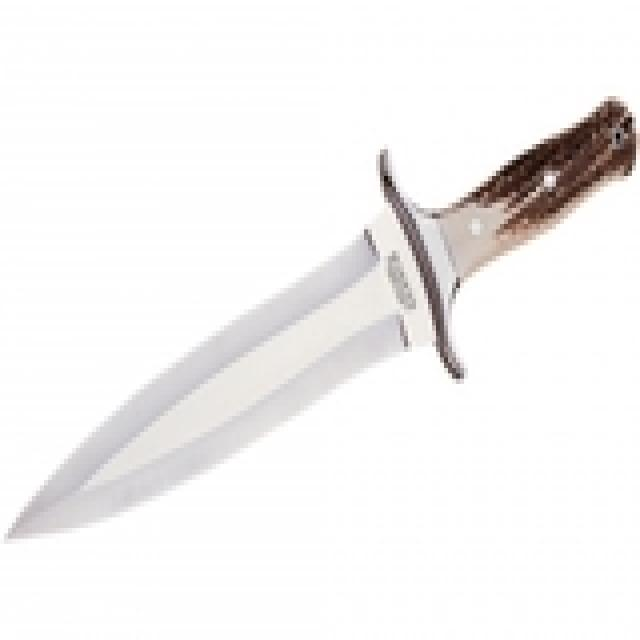Knife: (0, 92, 640, 578)
